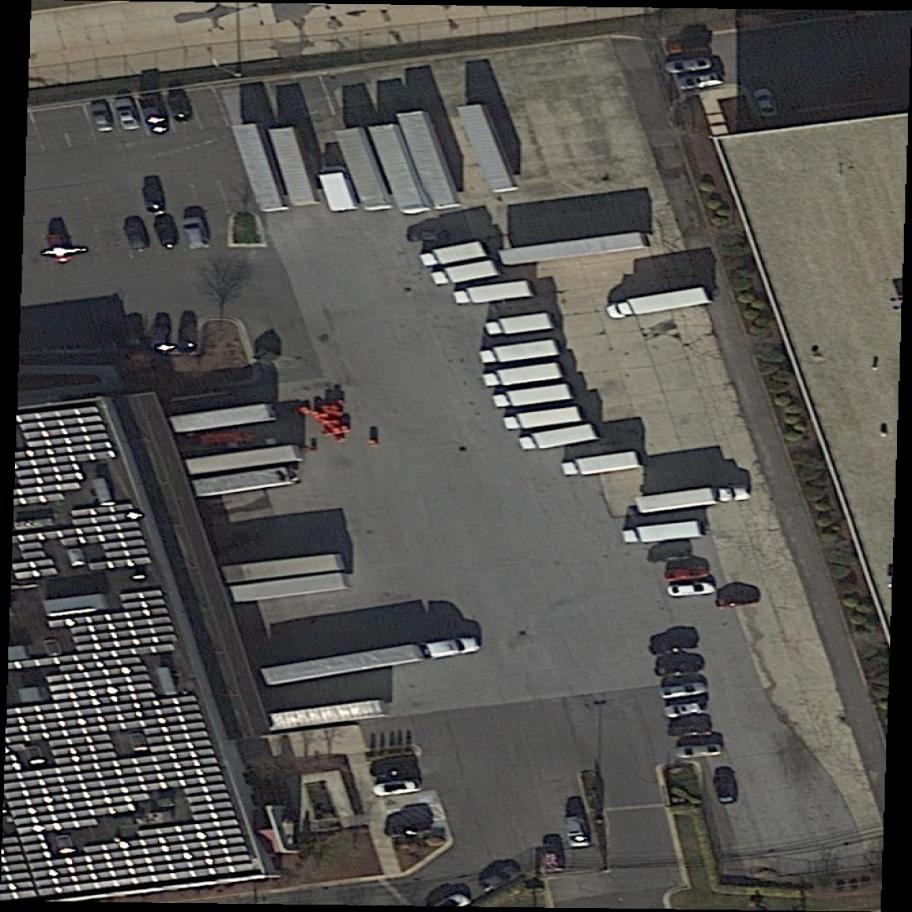large-vehicle: (261, 637, 483, 689), (605, 286, 712, 321), (636, 485, 752, 514), (520, 423, 600, 454), (319, 161, 359, 217), (494, 384, 576, 411), (483, 363, 565, 390), (504, 406, 584, 433), (455, 280, 538, 306), (563, 451, 642, 478), (623, 520, 705, 546), (479, 339, 561, 365), (431, 259, 500, 289), (482, 311, 557, 338), (419, 241, 489, 269)
small-vehicle: (473, 857, 525, 898), (136, 90, 174, 141), (109, 92, 144, 135), (150, 211, 184, 255), (180, 210, 211, 255), (369, 776, 427, 800), (44, 228, 76, 270), (708, 769, 740, 809), (655, 679, 713, 701), (561, 814, 593, 853), (120, 215, 151, 255), (649, 658, 705, 680), (385, 817, 436, 841), (165, 90, 197, 128), (659, 699, 716, 720), (86, 98, 116, 137), (674, 71, 727, 93), (648, 637, 706, 657), (666, 742, 727, 761), (751, 84, 781, 122), (663, 54, 717, 75), (140, 181, 169, 216), (664, 581, 716, 599), (664, 722, 715, 740), (711, 592, 760, 610), (664, 565, 712, 583), (666, 40, 715, 56), (649, 547, 693, 564), (150, 324, 172, 353), (180, 326, 201, 354)
